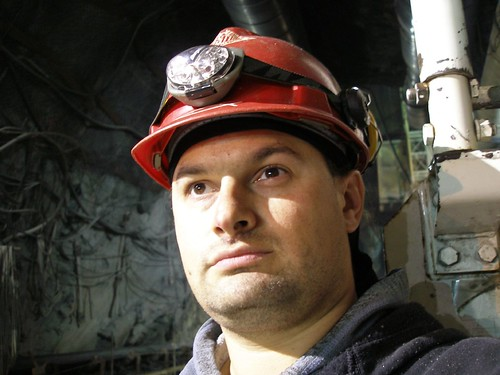person hardhat: (131, 25, 461, 375)
